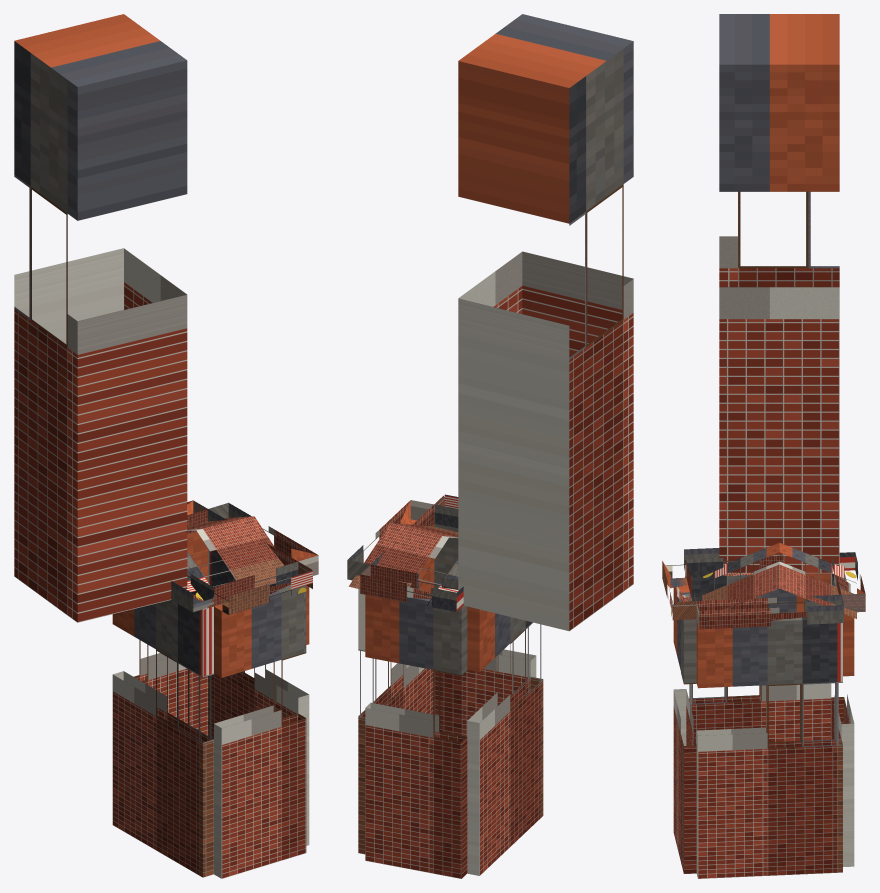
The picture shows the model from 3 angles, left to right: view 1: azimuth 30°, elevation 25°; view 2: azimuth 150°, elevation 25°; view 3: azimuth 270°, elevation 25°; orthographic projection. The views are drawn at different scales.
Visible parts, largest first — view 1: 1106965470__chimney_0_xb, 1106965470__wall_2_xb, 1106965470__wall_1_xb, 1106965470__wall_0_xb, 1106965470_roof_-1_xb, 1106965470__wall_3_xb, 1106965470__cornice_1, 1106965470__cornice_0, 1106965470__cornice_2; view 2: 1106965470__chimney_0_xb, 1106965470__wall_3_xb, 1106965470__wall_2_xb, 1106965470__wall_1_xb, 1106965470__wall_0_xb, 1106965470_roof_1_xb, 1106965470__cornice_3, 1106965470__cornice_0, 1106965470__cornice_1; view 3: 1106965470__chimney_0_xb, 1106965470__wall_0_xb, 1106965470__wall_2_xb, 1106965470__wall_1_xb, 1106965470__cornice_0, 1106965470__wall_3_xb, 1106965470_roof_-1_xb, 1106965470_roof_1_xb, 1106965470__cornice_2, 1106965470__cornice_1, 1106965470__cornice_3.
Boxes of the visible parts, x1,y1,x2,y2 form: 1106965470__chimney_0_xb: (14,14,187,622); 1106965470__wall_2_xb: (112,598,213,877); 1106965470__wall_1_xb: (214,584,306,878); 1106965470__wall_0_xb: (208,549,309,845); 1106965470_roof_-1_xb: (186,516,284,600); 1106965470__wall_3_xb: (134,531,207,735); 1106965470__cornice_1: (214,561,312,614); 1106965470__cornice_0: (208,502,318,575); 1106965470__cornice_2: (171,574,213,612); 1106965470__chimney_0_xb: (458,14,633,631); 1106965470__wall_3_xb: (365,595,467,878); 1106965470__wall_2_xb: (467,606,543,875); 1106965470__wall_1_xb: (434,524,536,736); 1106965470__wall_0_xb: (358,524,434,854); 1106965470_roof_1_xb: (348,523,458,605); 1106965470__cornice_3: (360,564,463,611); 1106965470__cornice_0: (347,500,434,580); 1106965470__cornice_1: (434,494,458,528); 1106965470__chimney_0_xb: (719,14,839,573); 1106965470__wall_0_xb: (696,617,842,878); 1106965470__wall_2_xb: (685,572,831,744); 1106965470__wall_1_xb: (673,577,696,873); 1106965470__cornice_0: (696,594,843,629); 1106965470__wall_3_xb: (831,573,854,866); 1106965470_roof_-1_xb: (702,542,779,610); 1106965470_roof_1_xb: (779,543,856,618); 1106965470__cornice_2: (684,548,783,577); 1106965470__cornice_1: (662,560,696,620); 1106965470__cornice_3: (832,552,865,612).
Bounding box in the file's own units: 0.3152 × 1.05 × 0.2533.
Materials: 1 (1 with a texture image).
